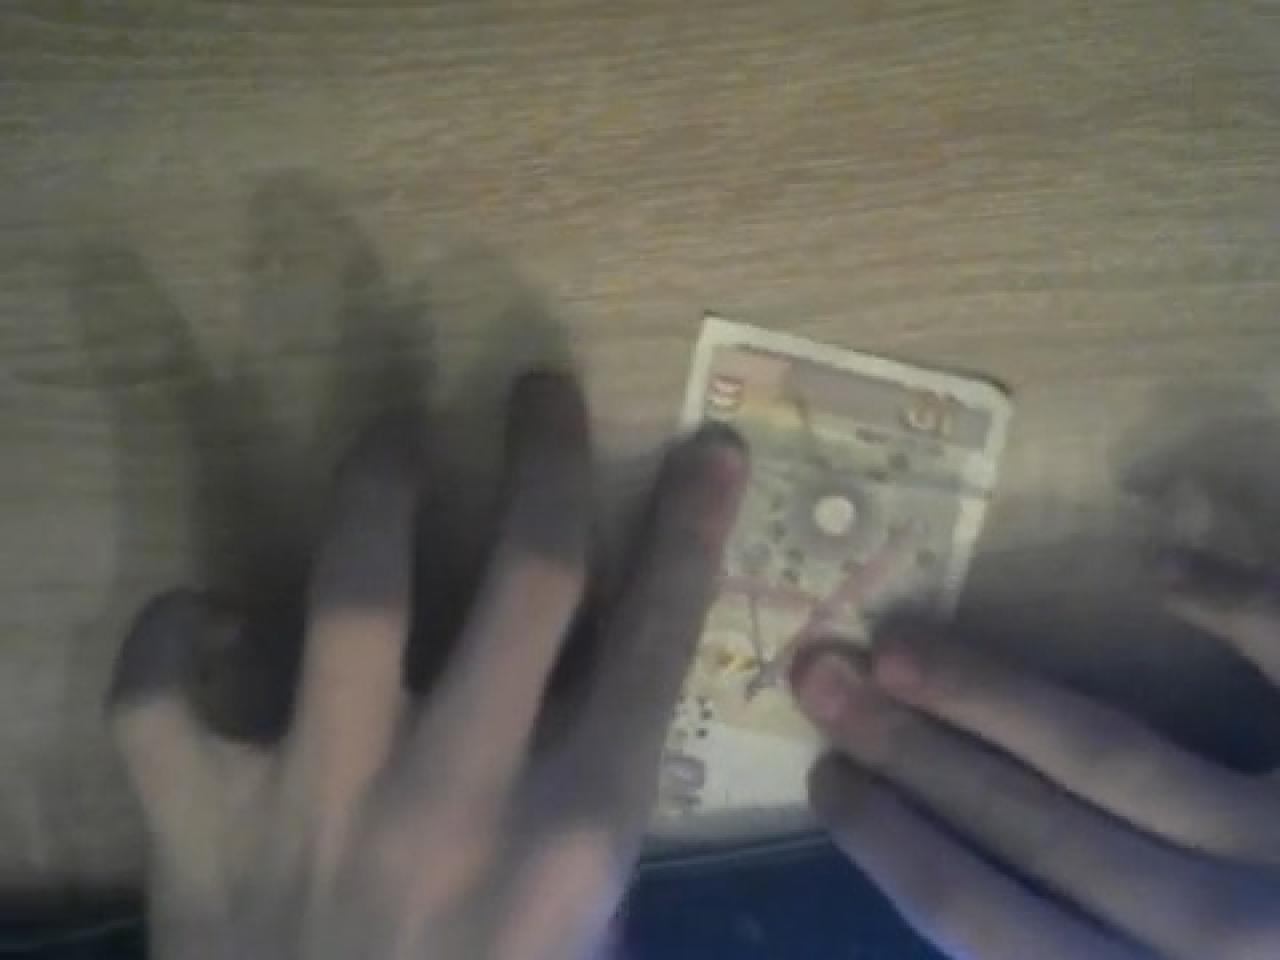10leva: (651, 312, 1013, 848)
